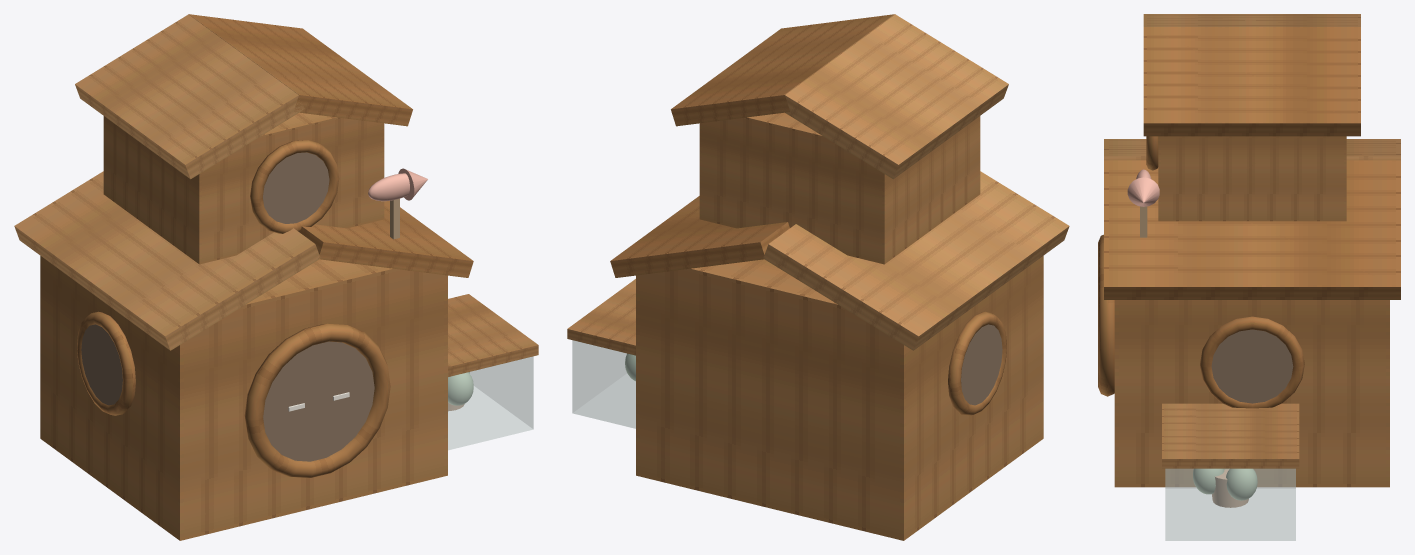
Rendered from cathouse_t2.glb.
3 renders of one model, left to right at view 1: azimuth 30°, elevation 25°; view 2: azimuth 150°, elevation 25°; view 3: azimuth 270°, elevation 25°, orthographic.
Visible parts, largest first — view 1: cathouse_t2; view 2: cathouse_t2; view 3: cathouse_t2.
Part boxes in pixels (x1,y1,x2,y2): cathouse_t2: (14,14,538,540); cathouse_t2: (567,14,1069,540); cathouse_t2: (1098,14,1400,540).
Size of the model in its own units: 1.26 by 1.21 by 0.836.
Materials: 12 (4 with a texture image).
